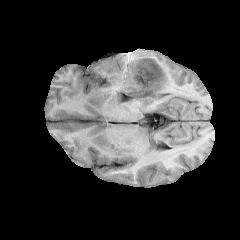glioma: (110, 53, 168, 98)
